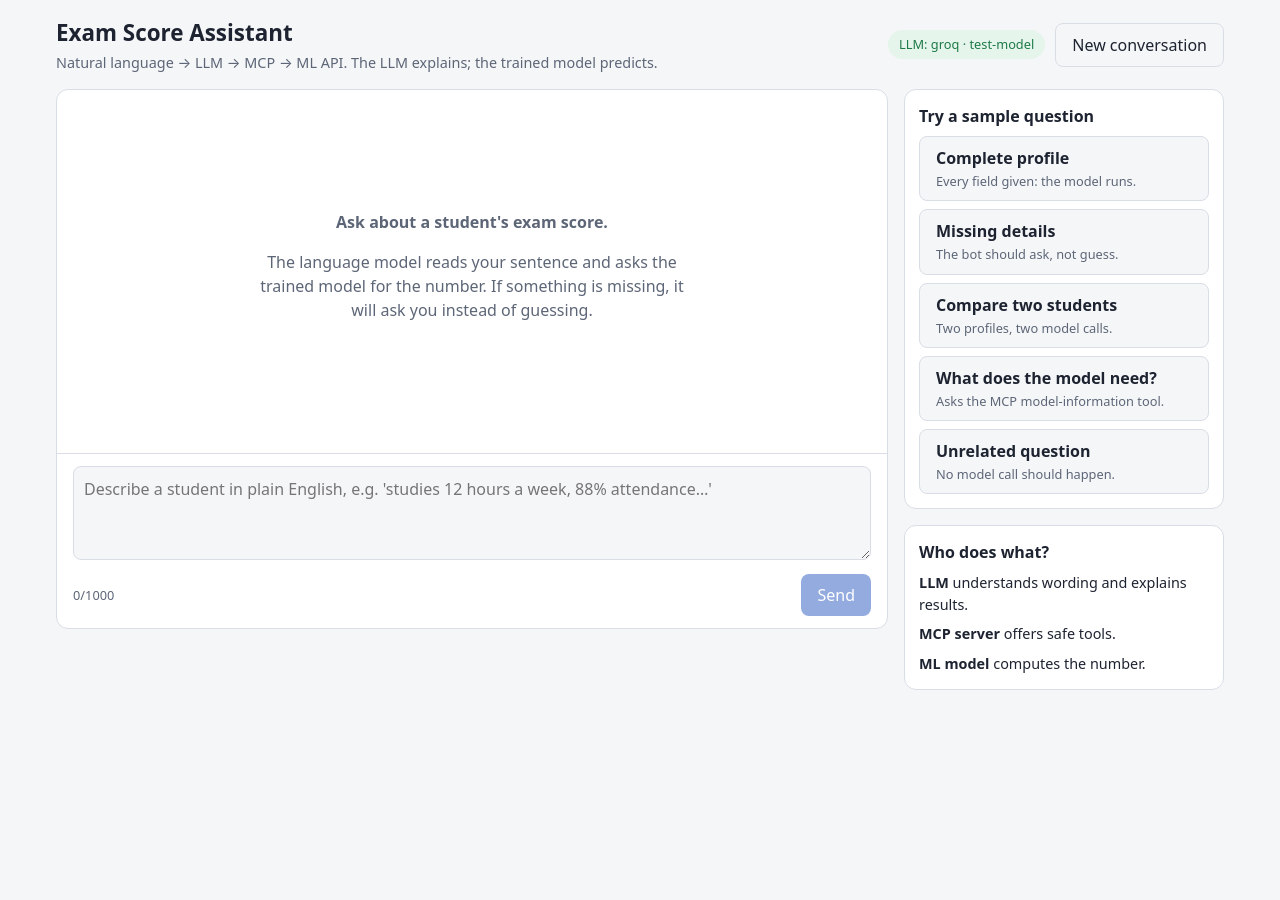
Test: sending messages › only talks to the orchestrator - never to Groq, Ollama, MCP or the ML API
Click the text box named "Your question" at (472, 513), box [73, 466, 871, 560]
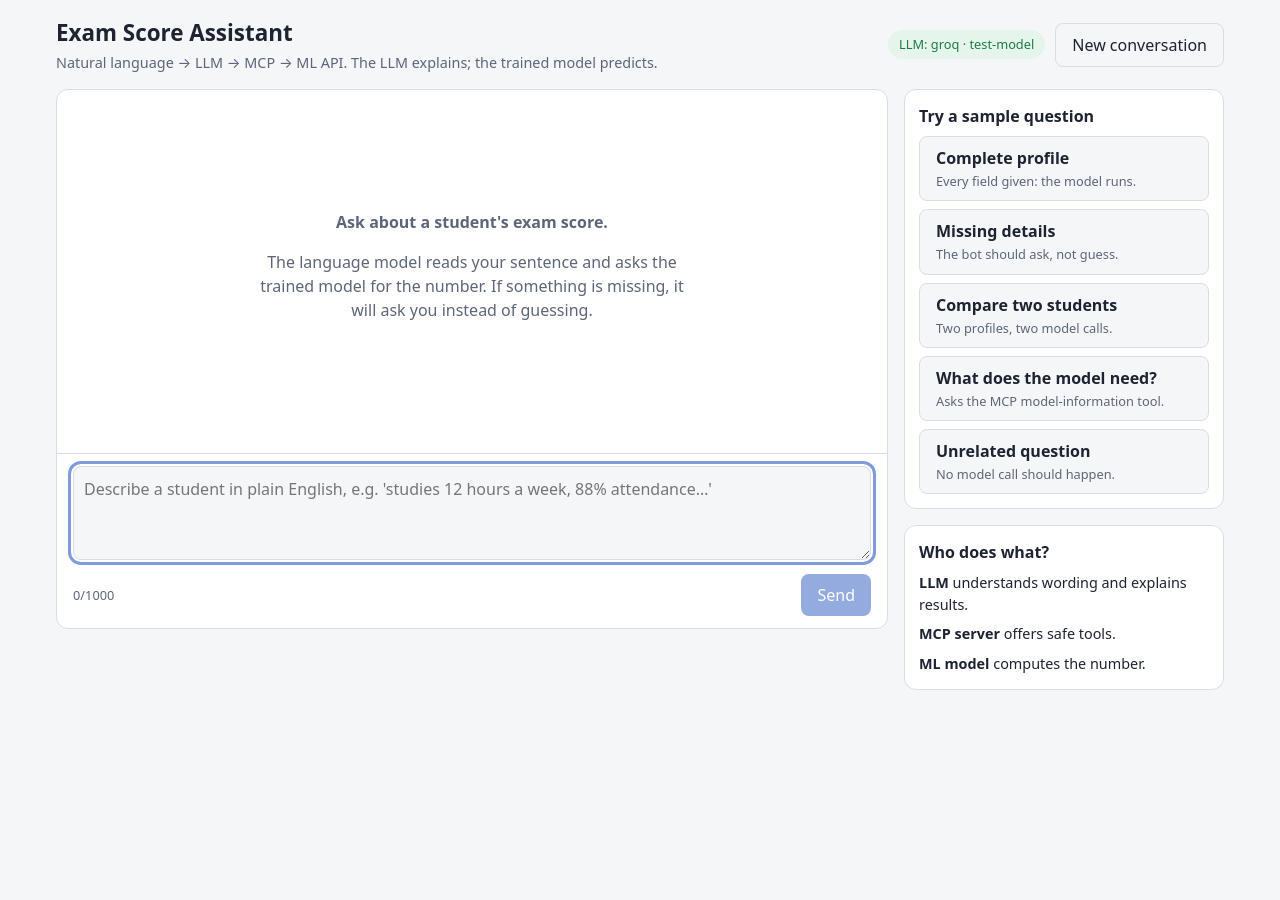
Type keys "hello"
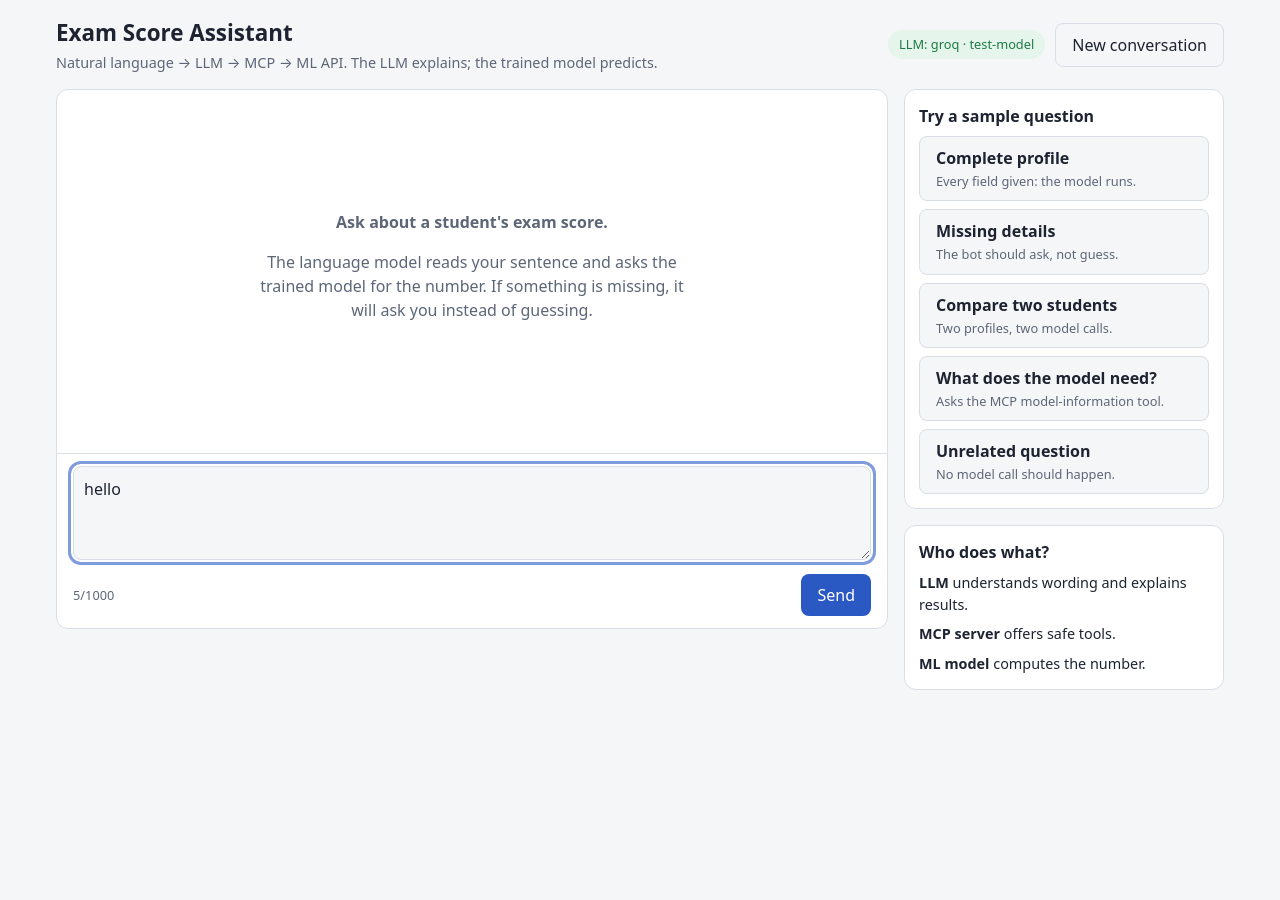
Click the button "Send" at (836, 595), box [802, 574, 871, 616]
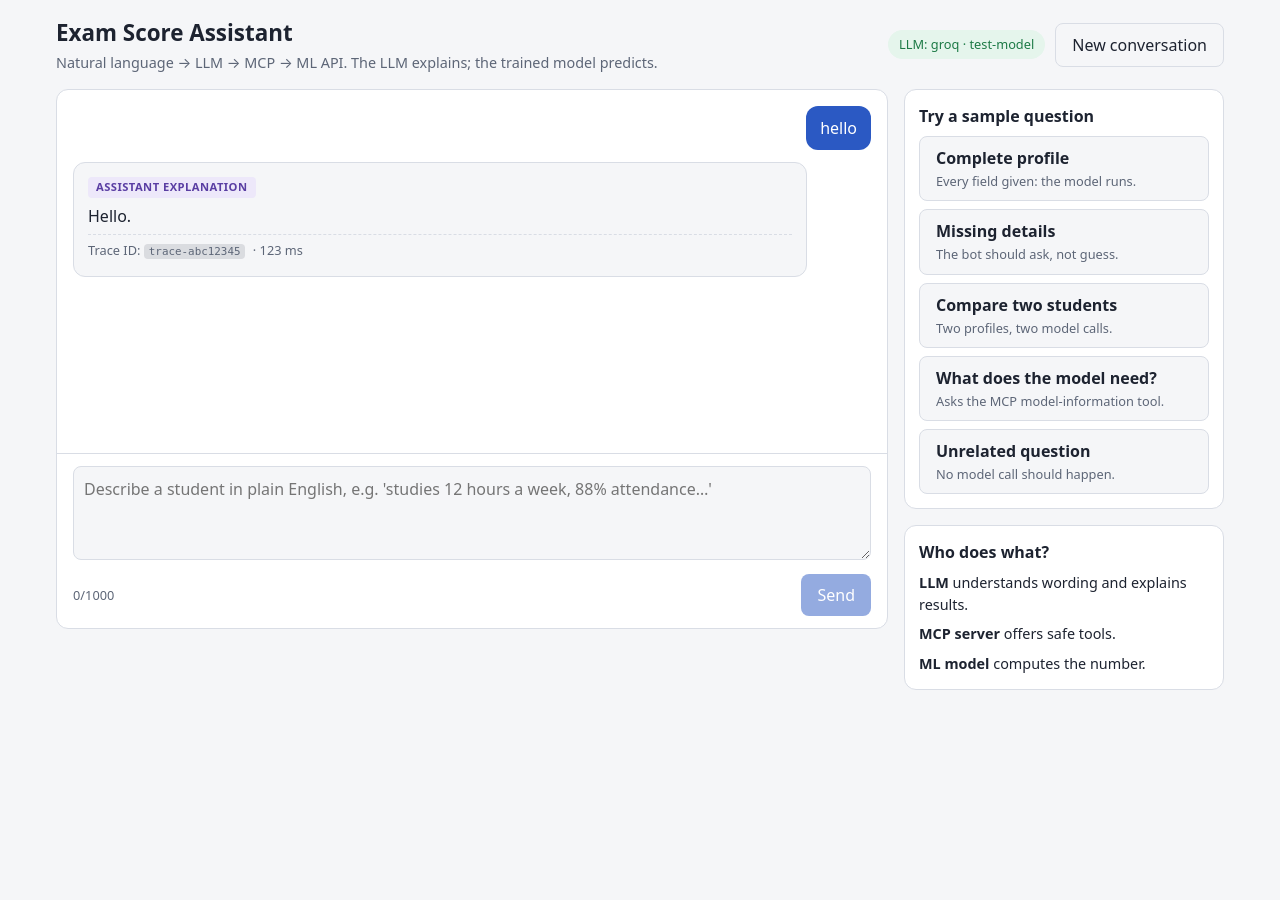
Expected: the text "Hello." is shown, [88, 205, 131, 227]
